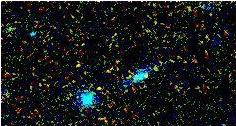star: (81, 67, 111, 97)
